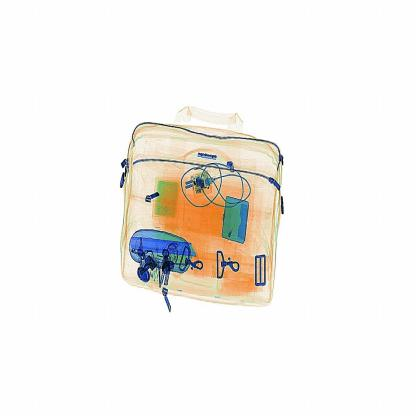pliers: (125, 228, 204, 270)
